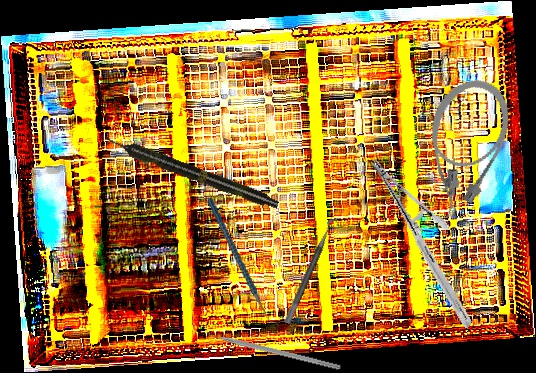Cannula: (401, 68, 523, 228)
Chopper: (207, 191, 280, 333), (198, 322, 344, 371)
Fixation Ring: (283, 216, 346, 329)
Handpiece: (103, 131, 281, 213)
Needle Holder: (324, 158, 519, 329)
